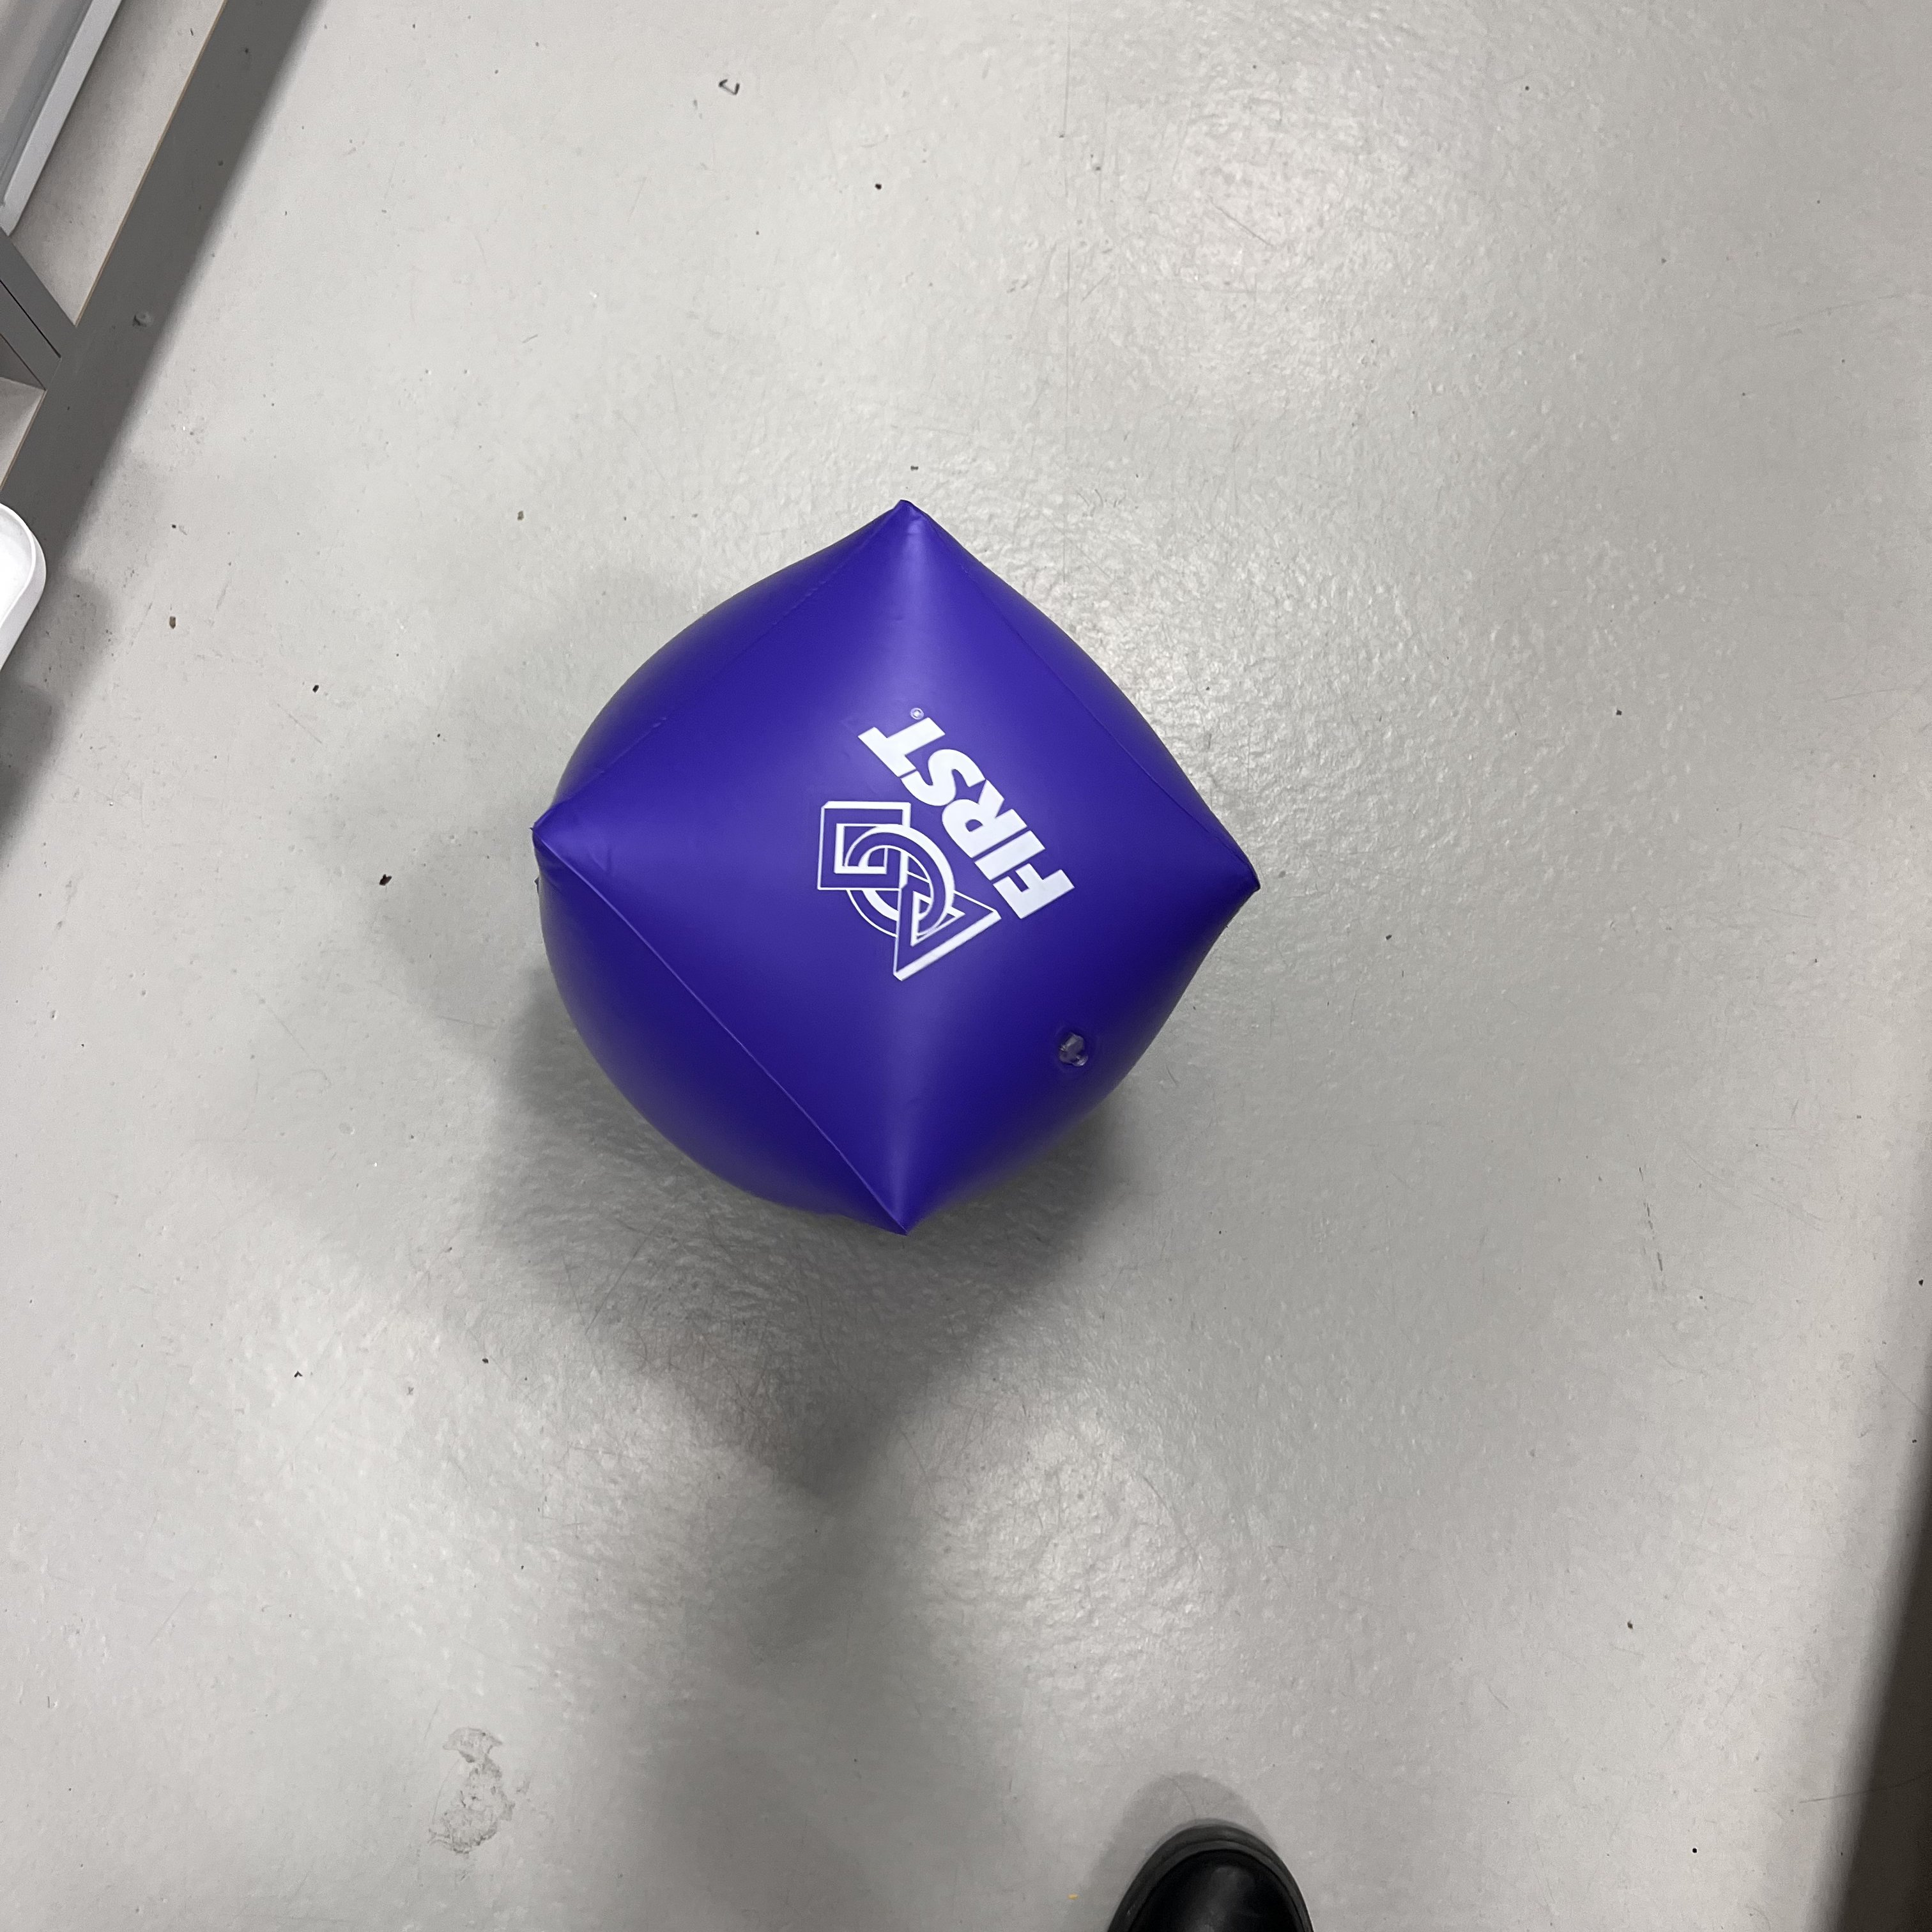cube: (531, 504, 1258, 1231)
